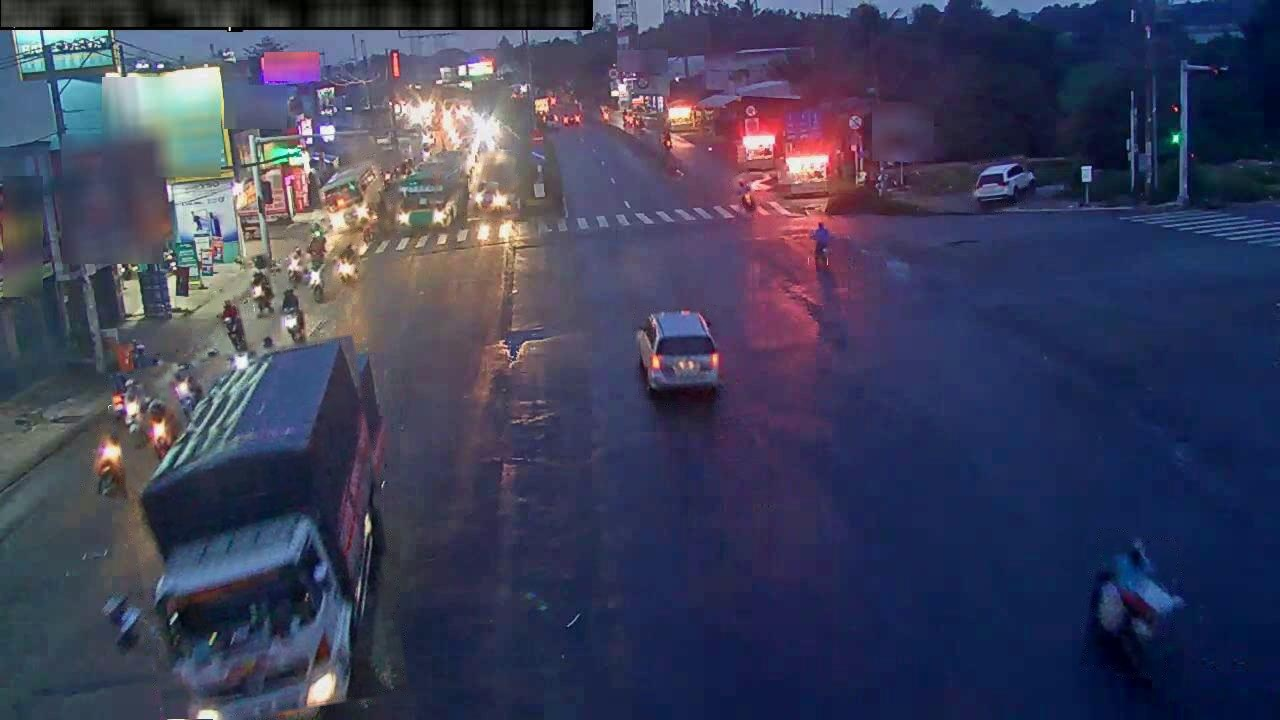Bus: (398, 152, 468, 232), (321, 163, 384, 229)
Car: (141, 338, 384, 585), (155, 516, 373, 719), (1089, 539, 1184, 680), (636, 309, 720, 393), (974, 162, 1036, 204), (478, 182, 513, 214)
Motorcyclist: (93, 415, 127, 495), (138, 357, 171, 422), (192, 347, 219, 398), (221, 299, 246, 352), (251, 255, 273, 315), (171, 370, 188, 441), (810, 220, 830, 268), (284, 242, 306, 285), (335, 244, 358, 285), (305, 254, 324, 302), (257, 311, 275, 360), (737, 174, 755, 212)
Pedestrian: (281, 288, 300, 314)
Traffic light: (1167, 101, 1184, 145)
Truck: (397, 167, 434, 231)
